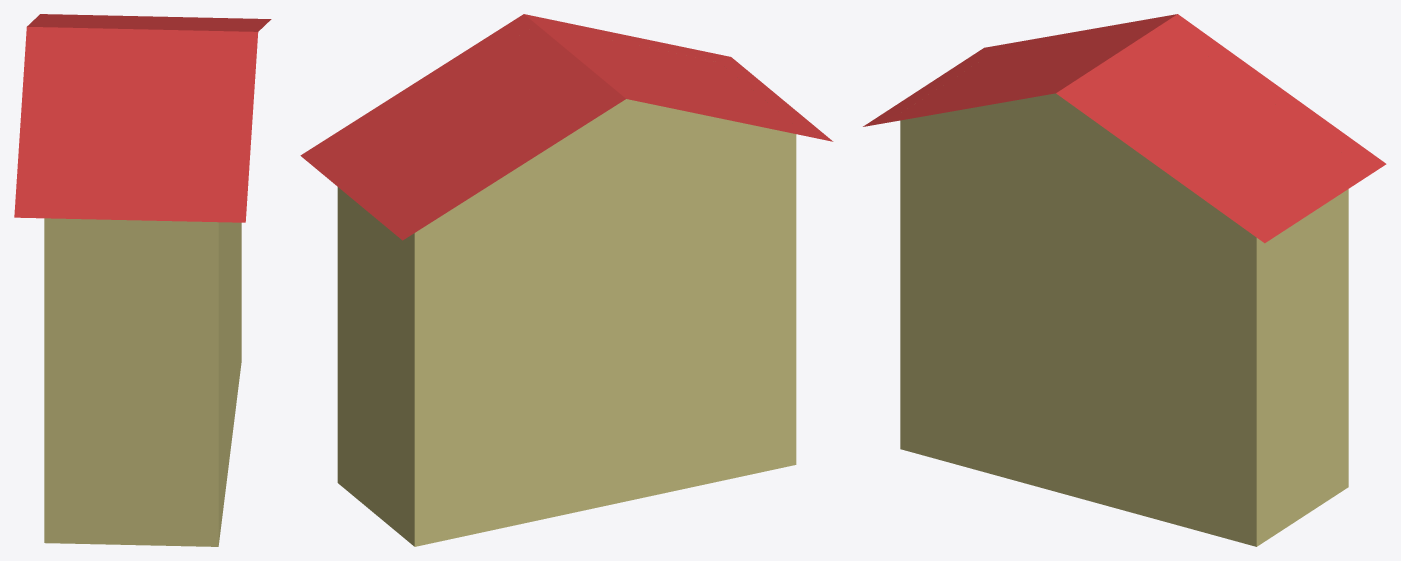
The picture shows the model from 3 angles, left to right: view 1: azimuth 30°, elevation 25°; view 2: azimuth 150°, elevation 25°; view 3: azimuth 270°, elevation 25°; orthographic projection. The views are drawn at different scales.
Parts seen in each view (by area): view 1: group_5, group_3, group_4; view 2: group_5, group_3, group_4; view 3: group_5, group_3, group_4.
Part boxes in pixels (x1=…): group_5: x1=44, y1=218, x2=241, y2=546; group_3: x1=17, y1=16, x2=271, y2=222; group_4: x1=14, y1=14, x2=258, y2=222; group_5: x1=337, y1=99, x2=796, y2=546; group_3: x1=300, y1=14, x2=795, y2=240; group_4: x1=301, y1=14, x2=833, y2=240; group_5: x1=900, y1=93, x2=1348, y2=546; group_3: x1=901, y1=15, x2=1373, y2=243; group_4: x1=863, y1=14, x2=1386, y2=242.
Size of the model in its own units: 8.13 by 9.5 by 8.24.
